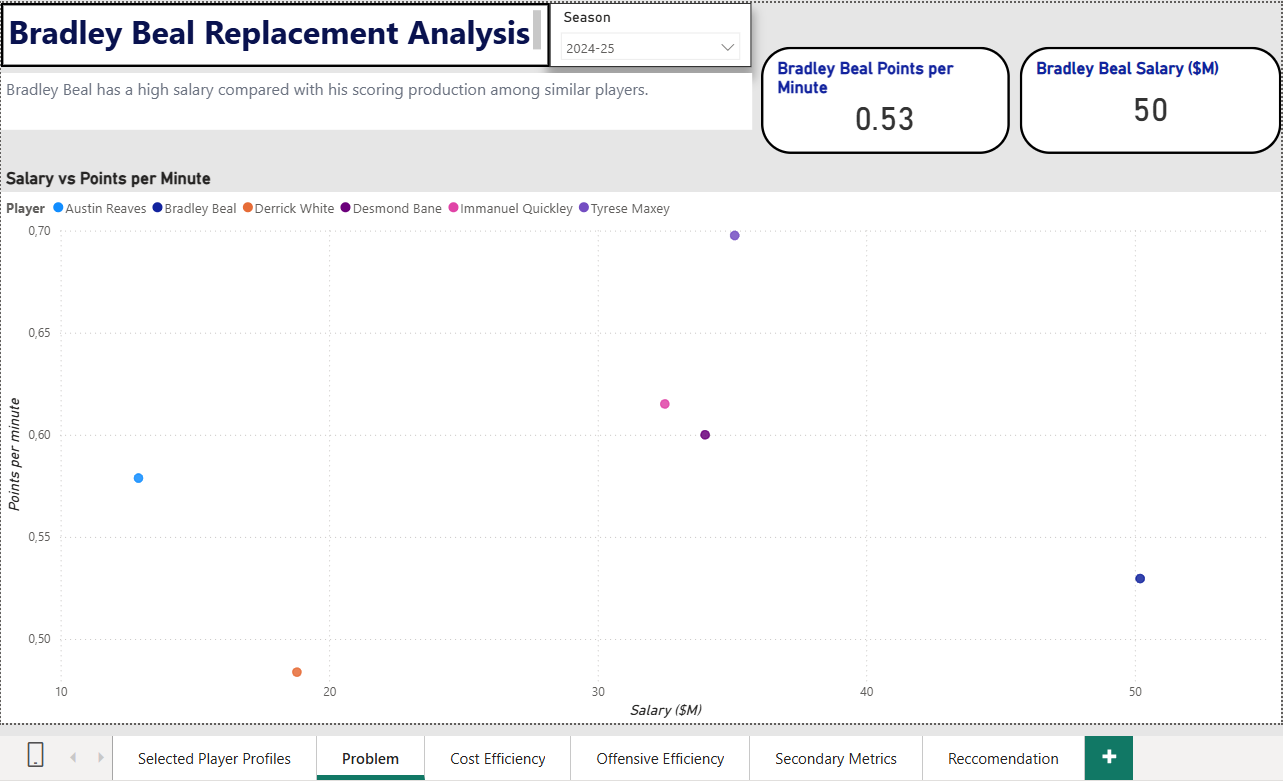

The dashboard page shown, as its layout file describes it:
{"tool":"powerbi","page":{"name":"Problem","canvas":[1280,720],"ordinal":1},"visuals":[{"type":"scatterChart","title":"Salary vs Points per Minute ","fields":{"X":["Sum(NBA_salaries.Salario_M)"],"Y":["NBA_salaries.Punti per Minuto"],"Series":["NBA_salaries.Player"]},"box":[0,165,1280.3,555.6],"z":0},{"type":"slicer","fields":{"Values":["NBA_salaries.Season"]},"box":[548.6,0,201.4,64.3],"z":1000},{"type":"advanceCardE03760C5AB684758B56AA29F9E6C257B","title":"Bradley Beal Salary ($M)","fields":{"mainMeasure":["Sum(NBA_salaries.Salario_M)"],"tooltipMeasures":["Min(NBA_salaries.Player)"]},"box":[1018.6,44.3,261.4,107.1],"z":2000},{"type":"textbox","box":[0,0,548.6,64.3],"z":3000},{"type":"textbox","box":[0,70,751.4,57.1],"z":4000},{"type":"advanceCardE03760C5AB684758B56AA29F9E6C257B","title":"Bradley Beal Points per Minute","fields":{"tooltipMeasures":["Min(NBA_salaries.Player)"],"mainMeasure":["NBA_salaries.Punti per Minuto"]},"box":[760,44.3,248.6,107.1],"z":5000}]}

Visuals, with their boxes in screenshot pixels (x1, y1, x2, y2):
"Salary vs Points per Minute " scatterChart: [10, 163, 1276, 712]
slicer - NBA_salaries.Season: [552, 0, 751, 64]
"Bradley Beal Salary ($M)" advanceCardE03760C5AB684758B56AA29F9E6C257B: [1017, 44, 1275, 150]
textbox: [10, 0, 552, 64]
textbox: [10, 69, 753, 126]
"Bradley Beal Points per Minute" advanceCardE03760C5AB684758B56AA29F9E6C257B: [761, 44, 1007, 150]
